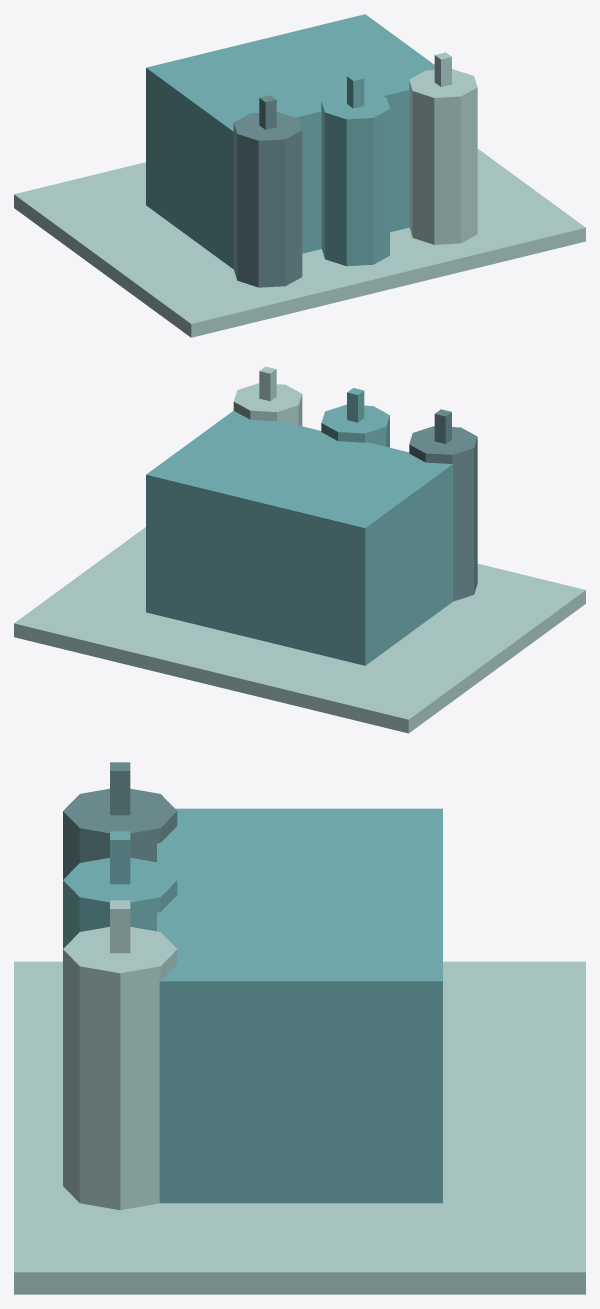
The model's file is adapted-production.glb.
3 renders of one model, top to bottom at view 1: azimuth 30°, elevation 25°; view 2: azimuth 150°, elevation 25°; view 3: azimuth 270°, elevation 25°, orthographic. The views are drawn at different scales.
Parts seen in each view (by area): view 1: Foundation, Building, Production vessel, Production vessel.001, Production vessel.002, Vent, Vent.001, Vent.002; view 2: Building, Foundation, Production vessel, Production vessel.002, Production vessel.001, Vent.002, Vent, Vent.001; view 3: Building, Foundation, Production vessel.002, Production vessel, Production vessel.001, Vent, Vent.001, Vent.002.
Boxes of the visible parts, x1,y1,x2,y2 form: Foundation: (14,149,585,337); Building: (146,14,434,268); Production vessel: (233,112,302,287); Production vessel.001: (321,90,389,266); Production vessel.002: (409,69,477,244); Vent: (259,95,276,129); Vent.001: (347,74,364,108); Vent.002: (434,52,451,86); Building: (146,410,452,665); Foundation: (14,527,585,733); Production vessel: (409,426,477,601); Production vessel.002: (233,383,302,425); Production vessel.001: (321,404,389,447); Vent.002: (259,366,276,401); Vent: (434,409,451,443); Vent.001: (347,388,364,422); Building: (157,808,442,1203); Foundation: (14,961,585,1294); Production vessel.002: (63,927,177,1210); Production vessel: (63,788,177,879); Production vessel.001: (63,857,177,948); Vent: (110,762,130,815); Vent.001: (110,831,130,884); Vent.002: (110,900,130,953).
Size of the model in its own units: 9 by 4.1 by 7.
